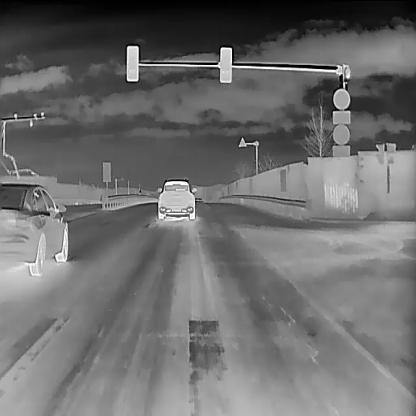car: (0, 182, 68, 275), (157, 177, 197, 219)
